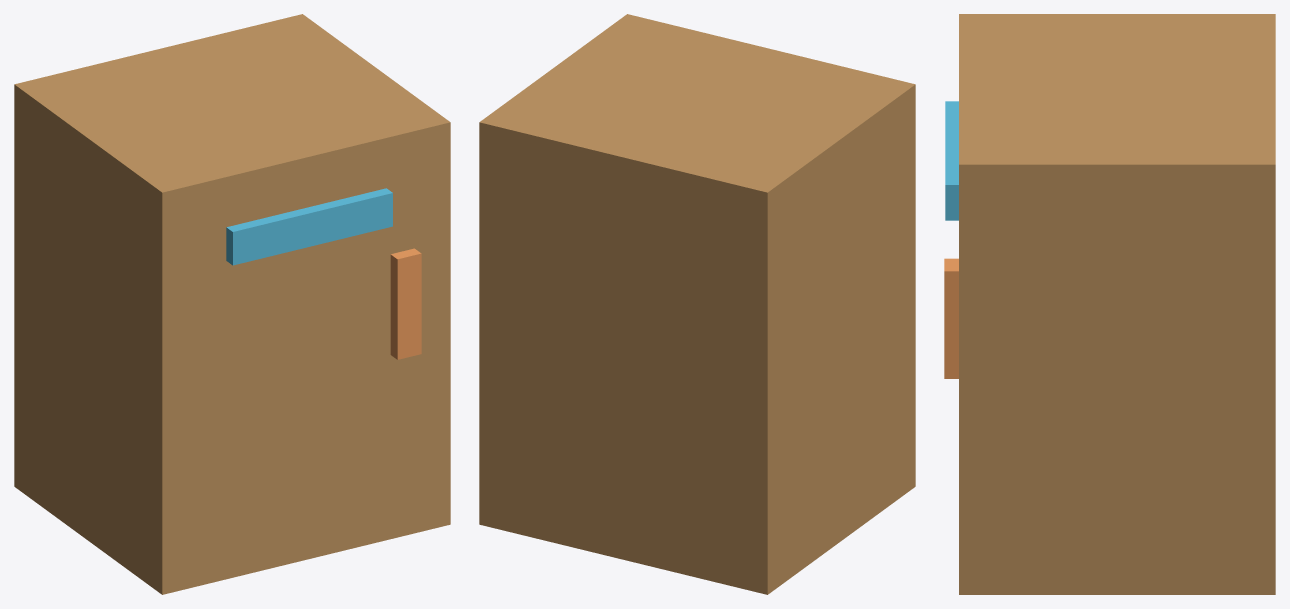
File: mini_fridge.glb
The picture shows the model from 3 angles, left to right: view 1: azimuth 30°, elevation 25°; view 2: azimuth 150°, elevation 25°; view 3: azimuth 270°, elevation 25°; orthographic projection. The views are drawn at different scales.
Visible parts, largest first — view 1: mini_fridge; view 2: mini_fridge; view 3: mini_fridge.
Part boxes in pixels (<box>): mini_fridge: <box>14,14,450,594</box>; mini_fridge: <box>479,14,915,594</box>; mini_fridge: <box>944,14,1275,594</box>.
Size of the model in its own units: 18 by 24 by 16.75.
